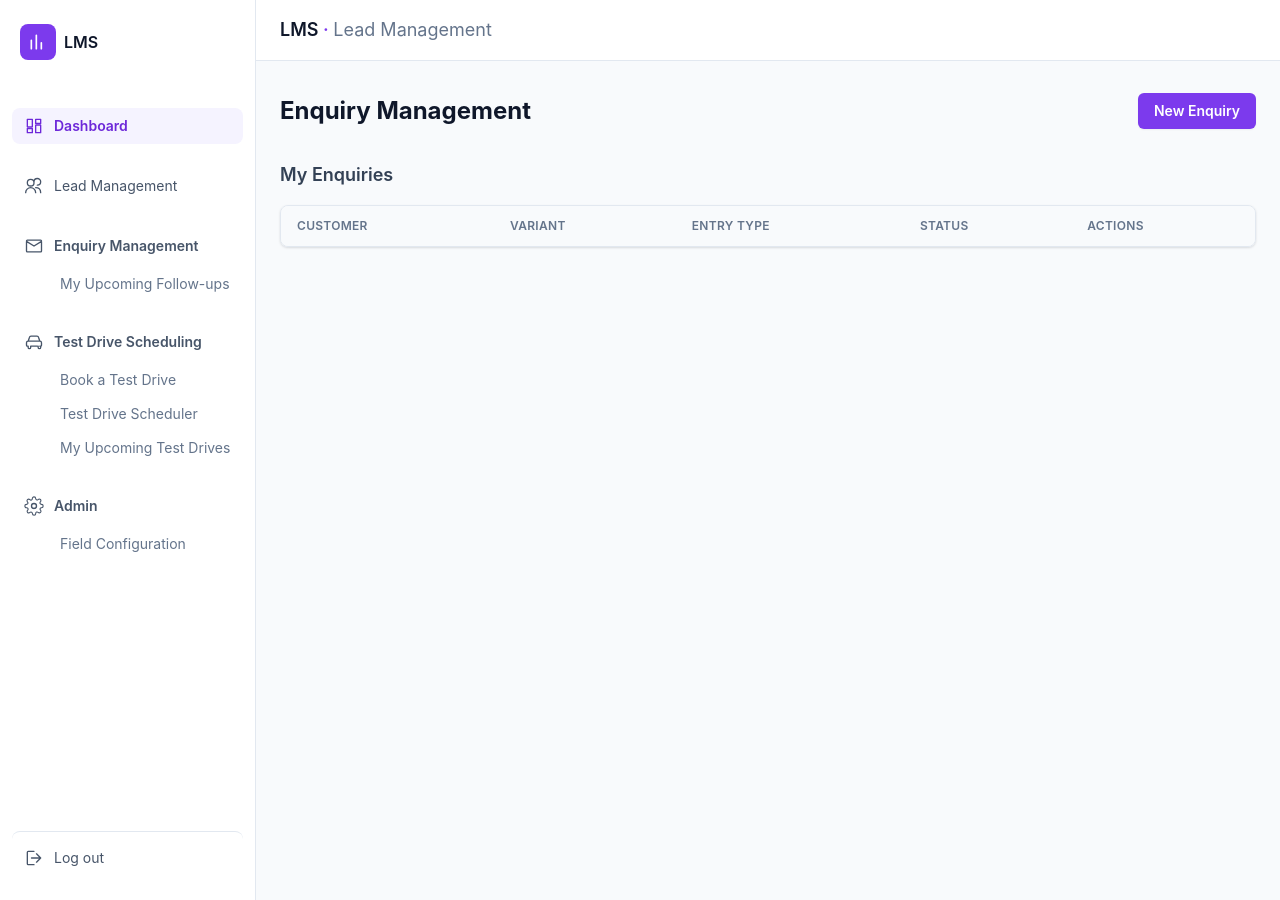
EnquiryManagementPage (issue #130) › New Enquiry slide-over panel › clicking "New Enquiry" opens the panel without navigating away — the page stays mounted underneath
expect the heading "Enquiry Management" is shown: met, box [280, 95, 531, 127]
expect the table named "my enquiries" is shown: met, box [281, 206, 1255, 246]
Click the button "New Enquiry". click: coordinates (1197, 111)
box: [1138, 93, 1256, 129]
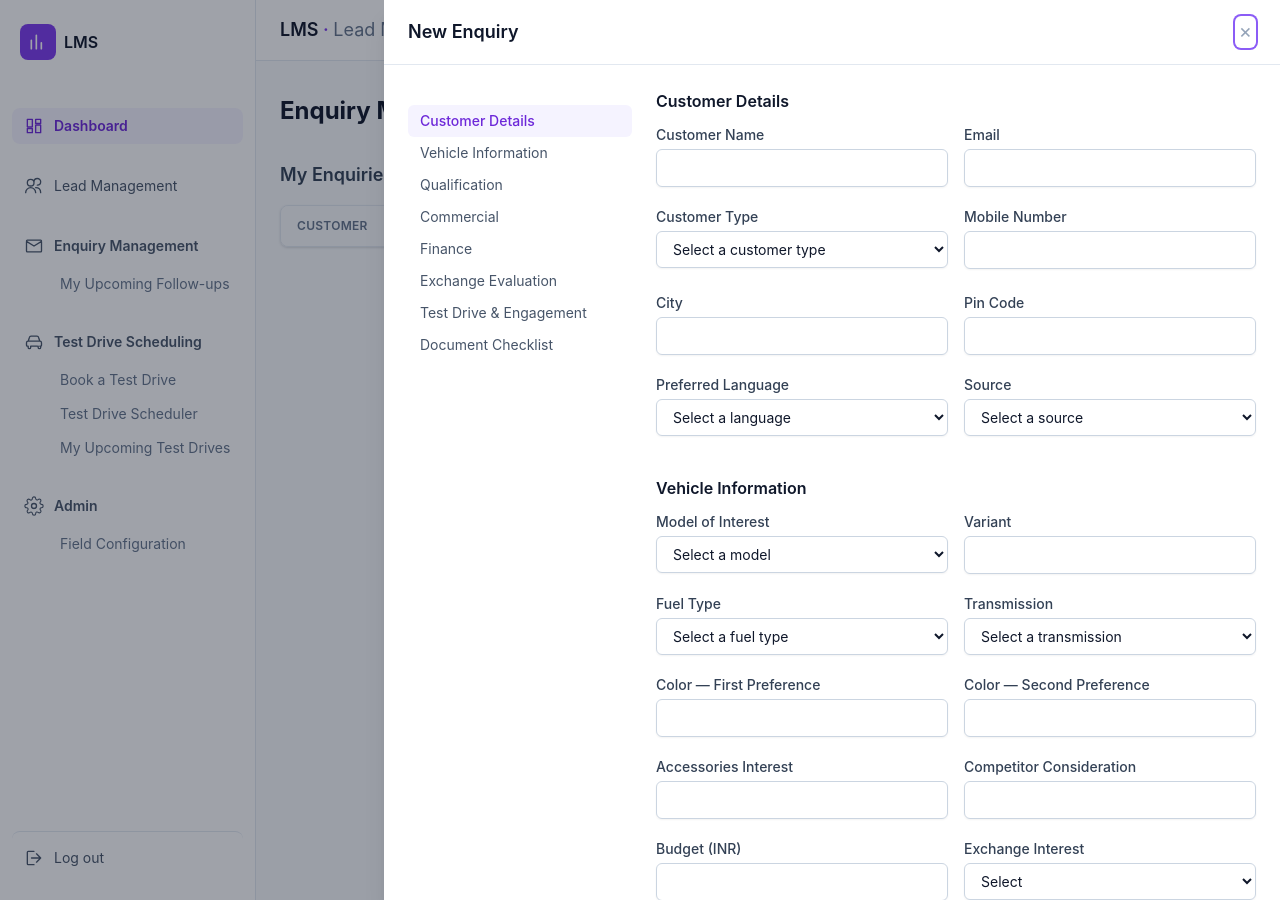
expect the heading "Enquiry Management" is shown: met, box [280, 95, 531, 127]
expect the dialog "New Enquiry" is shown: met
expect the field labelled "Customer Name" is shown: met, box [656, 149, 948, 187]
